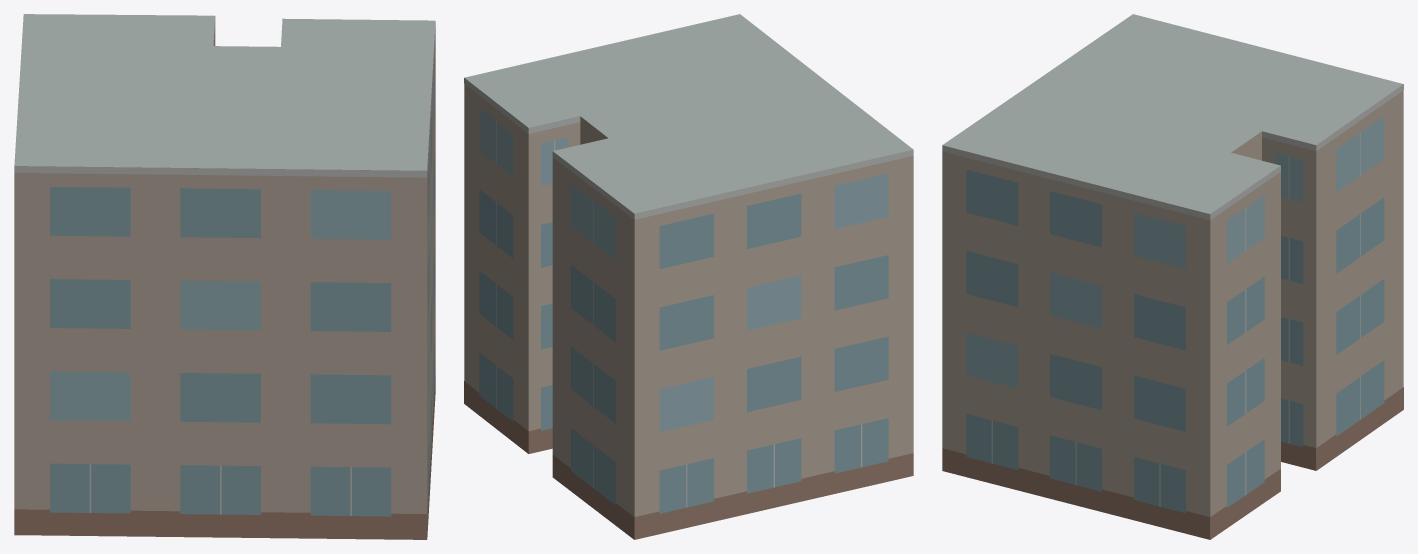
File: survey-upis-32741062.glb
3 renders of one model, left to right at view 1: azimuth 30°, elevation 25°; view 2: azimuth 150°, elevation 25°; view 3: azimuth 270°, elevation 25°, orthographic. The views are drawn at different scales.
Parts seen in each view (by area): view 1: survey-upis-32741062.tmp; view 2: survey-upis-32741062.tmp; view 3: survey-upis-32741062.tmp.
Boxes of the visible parts, x1,y1,x2,y2 form: survey-upis-32741062.tmp: (14,14,435,539); survey-upis-32741062.tmp: (464,14,913,539); survey-upis-32741062.tmp: (942,14,1403,539).
Size of the model in its own units: 17.28 by 13.1 by 16.83.
